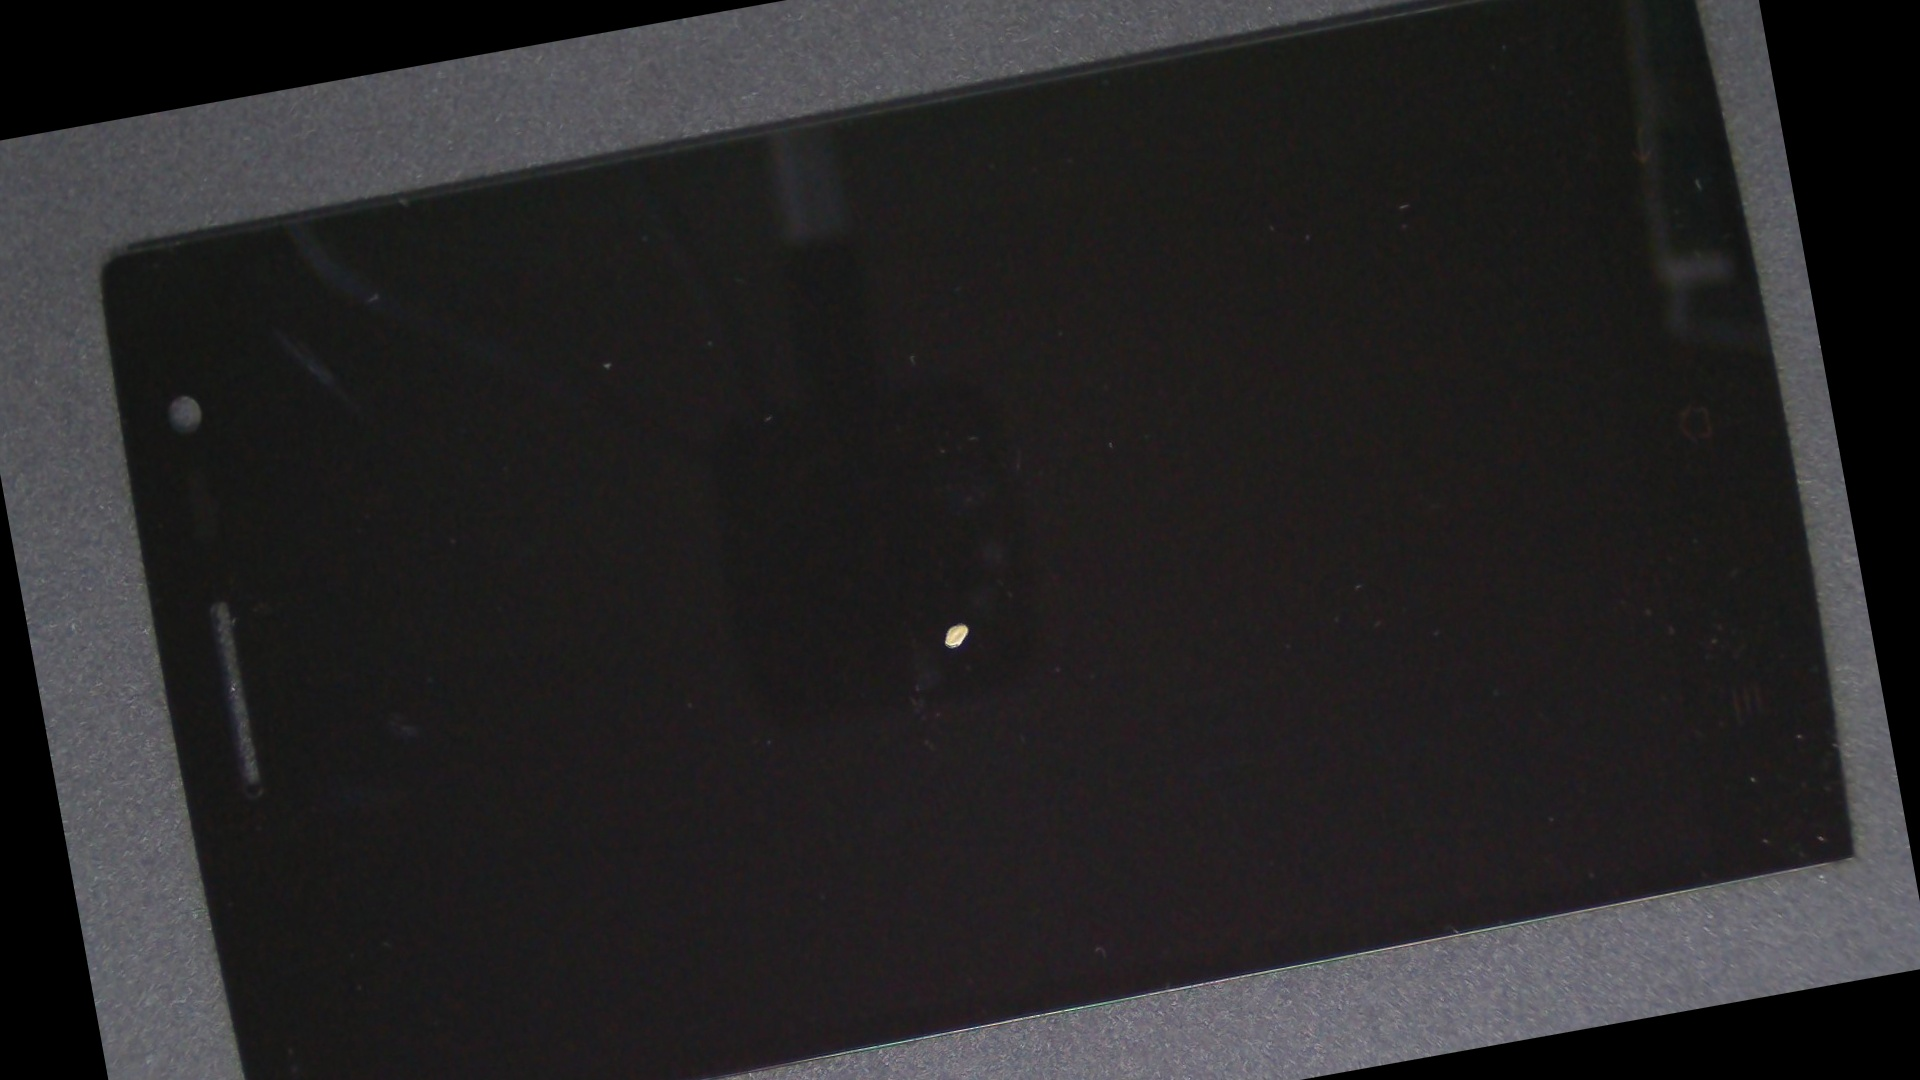oil: (451, 225, 1465, 1019)
